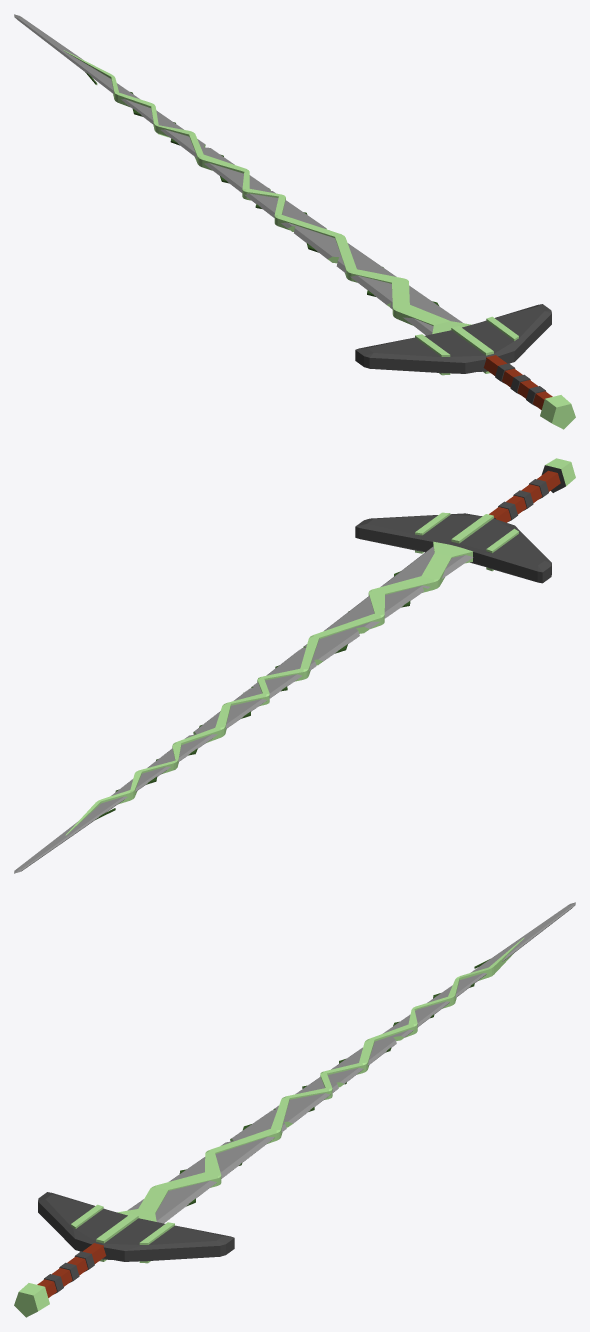
3 views of the same model, one above another, from view 1: azimuth 30°, elevation 25°; view 2: azimuth 150°, elevation 25°; view 3: azimuth 330°, elevation 25° (orthographic).
Parts seen in each view (by area): view 1: 55; view 2: 55; view 3: 55.
Part boxes in pixels (<box>): 55: <box>14,14,575,429</box>; 55: <box>14,458,575,873</box>; 55: <box>14,902,575,1317</box>.
Size of the model in its own units: 16.55 by 2.2 by 84.04.
